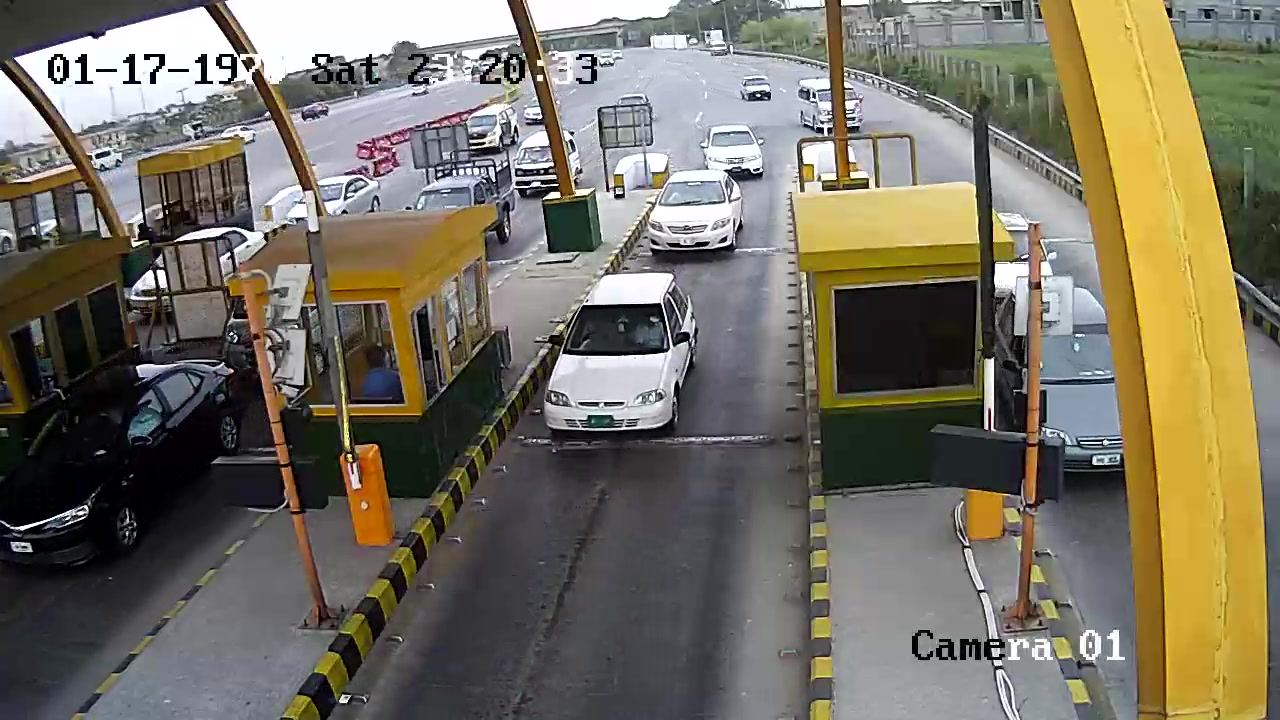F1: (546, 271, 709, 445)
